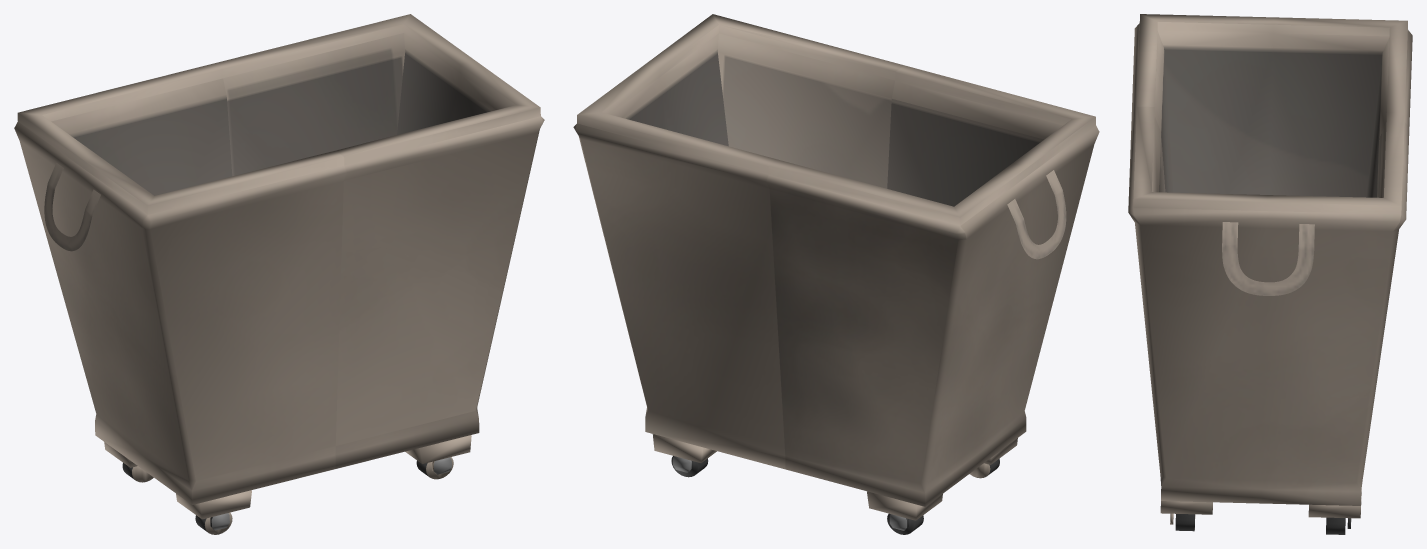
File: LaundryCartTEXTURED.obj
3 renders of one model, left to right at view 1: azimuth 30°, elevation 25°; view 2: azimuth 150°, elevation 25°; view 3: azimuth 270°, elevation 25°, orthographic.
Parts seen in each view (by area): view 1: LaundryCartTEXTURED.obj; view 2: LaundryCartTEXTURED.obj; view 3: LaundryCartTEXTURED.obj.
Part boxes in pixels (left/top/right/bottom): LaundryCartTEXTURED.obj: left=14, top=14, right=544, bottom=534; LaundryCartTEXTURED.obj: left=573, top=14, right=1099, bottom=534; LaundryCartTEXTURED.obj: left=1128, top=14, right=1412, bottom=534.
Size of the model in its own units: 3.16 by 2.59 by 1.78.
